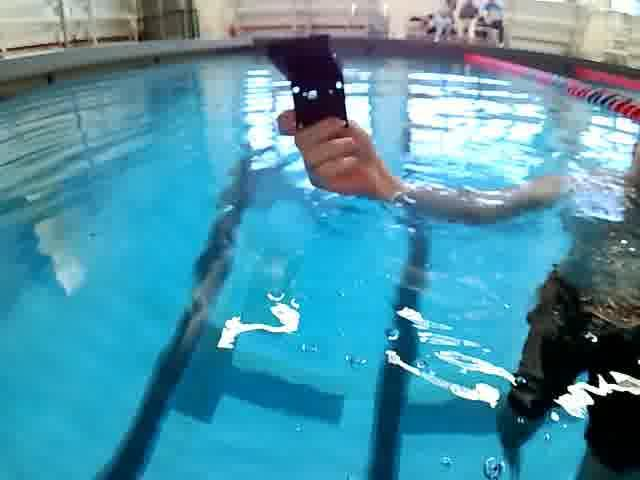CamMount: (260, 28, 350, 132)
